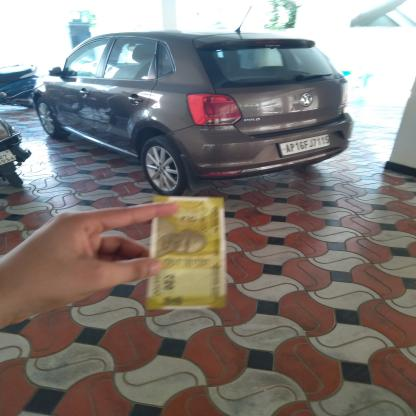New20Front: (150, 195, 221, 314)
